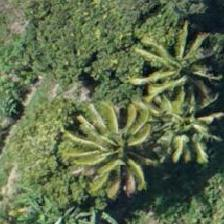coconut_tree: (72, 106, 162, 196), (137, 24, 223, 114), (143, 79, 223, 169)
